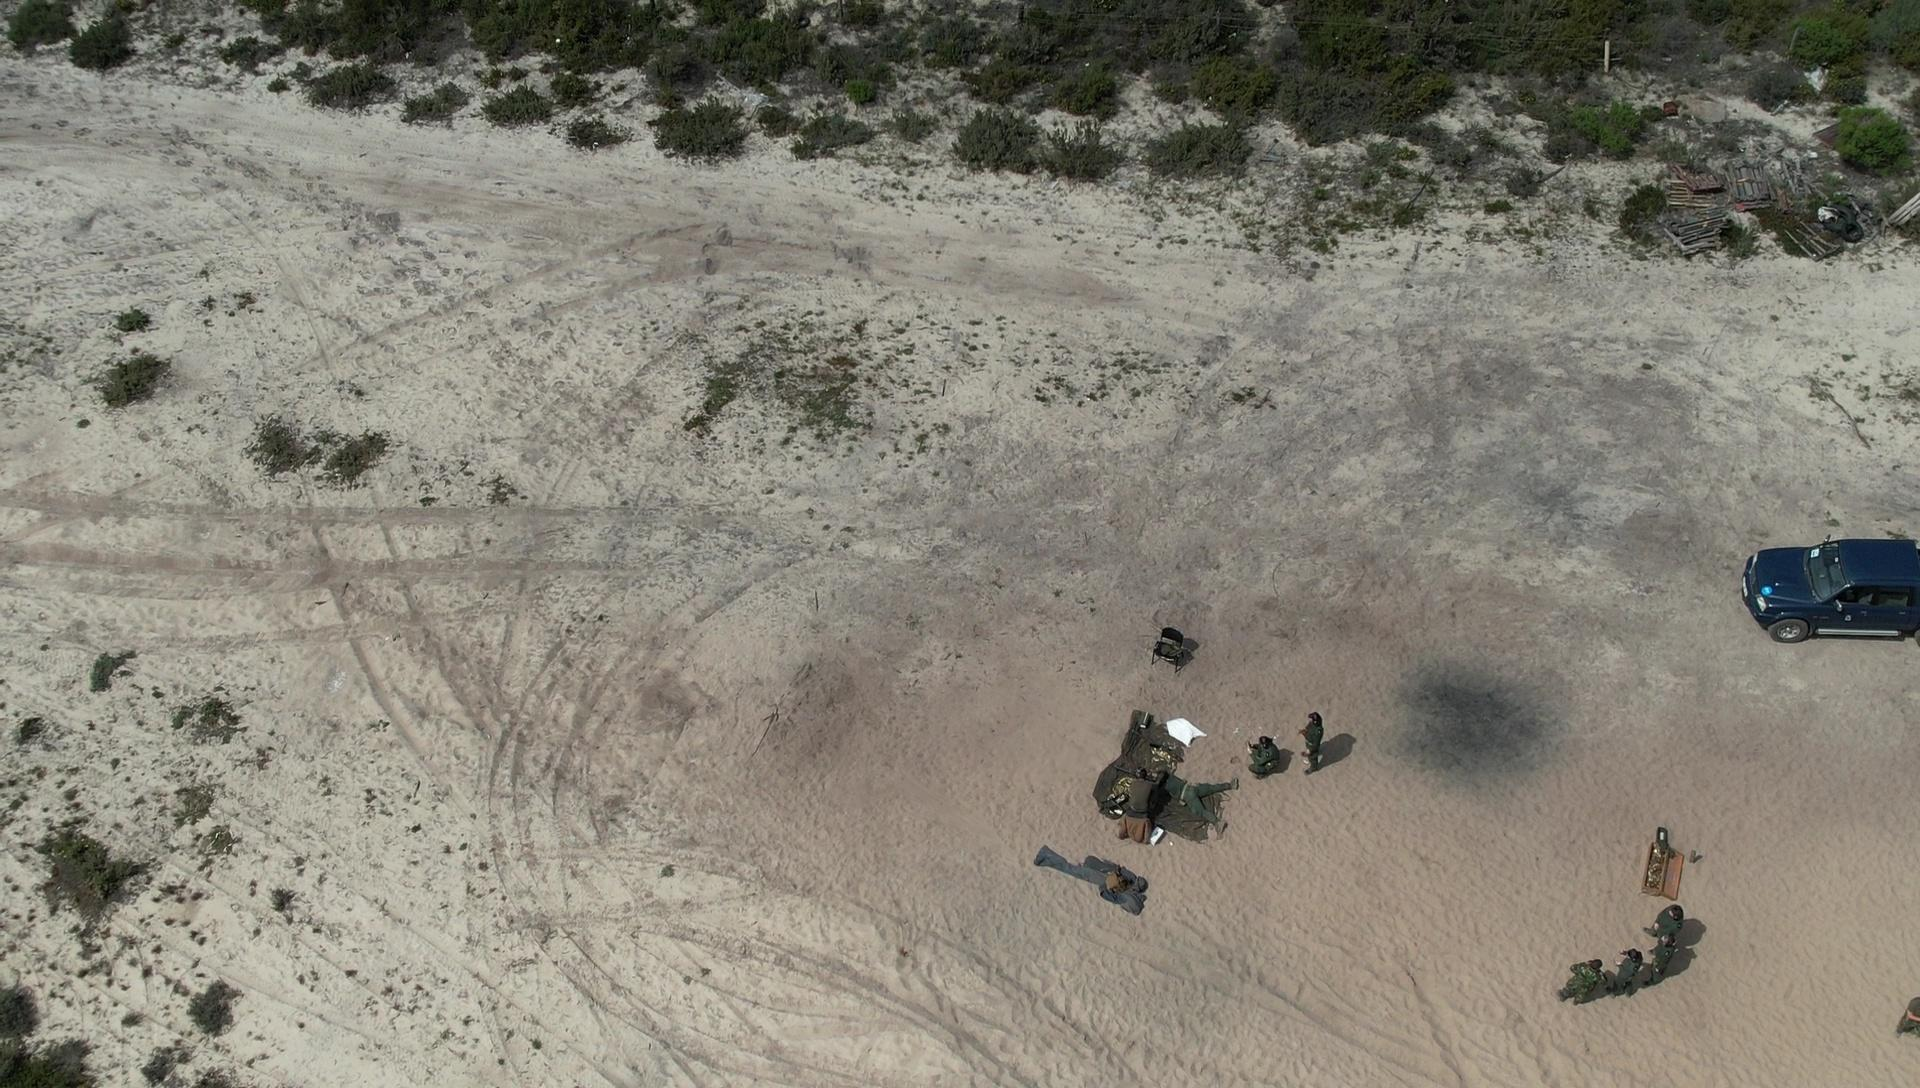Soldier: (1154, 761, 1244, 835), (1124, 765, 1185, 833), (1294, 698, 1338, 791), (1240, 724, 1296, 783), (1605, 936, 1650, 1008), (1644, 903, 1702, 955), (1567, 948, 1607, 1014), (1644, 928, 1679, 992)
